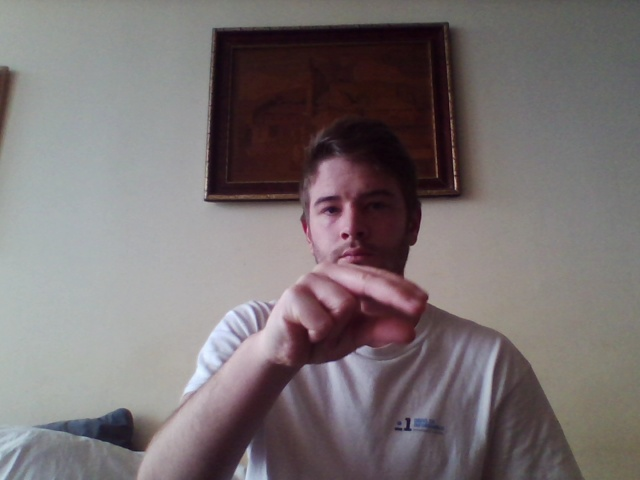ne: (271, 260, 430, 369)
